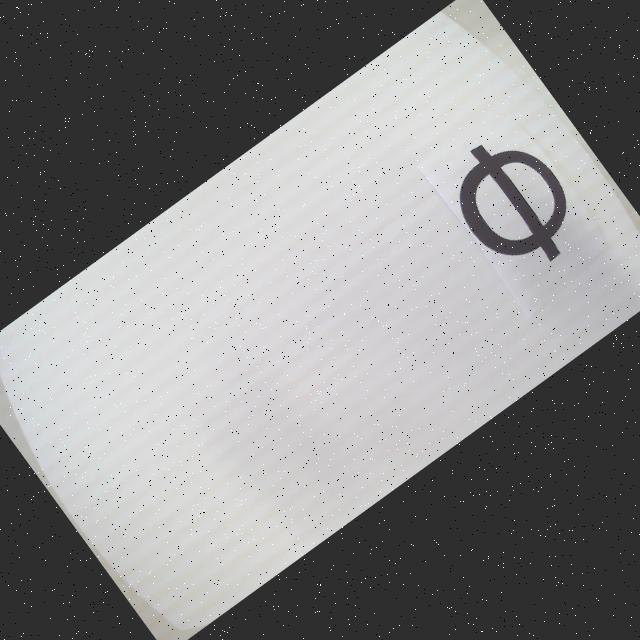PHI: (433, 118, 596, 289)
